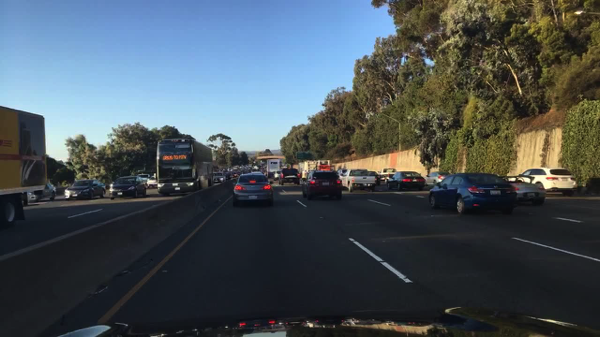bus: (156, 135, 213, 198)
car: (426, 171, 519, 215), (516, 166, 577, 196), (232, 172, 274, 208), (301, 166, 343, 201), (500, 175, 547, 205), (108, 175, 147, 201), (64, 178, 107, 200), (385, 170, 426, 192), (29, 182, 57, 202), (424, 171, 451, 190), (278, 167, 302, 185), (377, 167, 399, 186), (265, 158, 282, 178), (367, 170, 381, 186), (337, 169, 349, 184), (271, 169, 283, 182), (137, 172, 149, 185), (212, 172, 226, 183), (147, 175, 157, 188), (225, 172, 232, 179), (232, 172, 239, 178), (227, 166, 233, 172), (232, 165, 239, 170), (239, 164, 246, 169), (239, 170, 246, 175), (262, 169, 267, 176), (246, 169, 251, 175), (247, 163, 252, 168), (251, 168, 257, 172), (257, 168, 263, 172)
truck: (0, 103, 47, 228), (341, 168, 376, 194)
